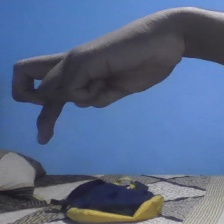P: (9, 4, 193, 147)
